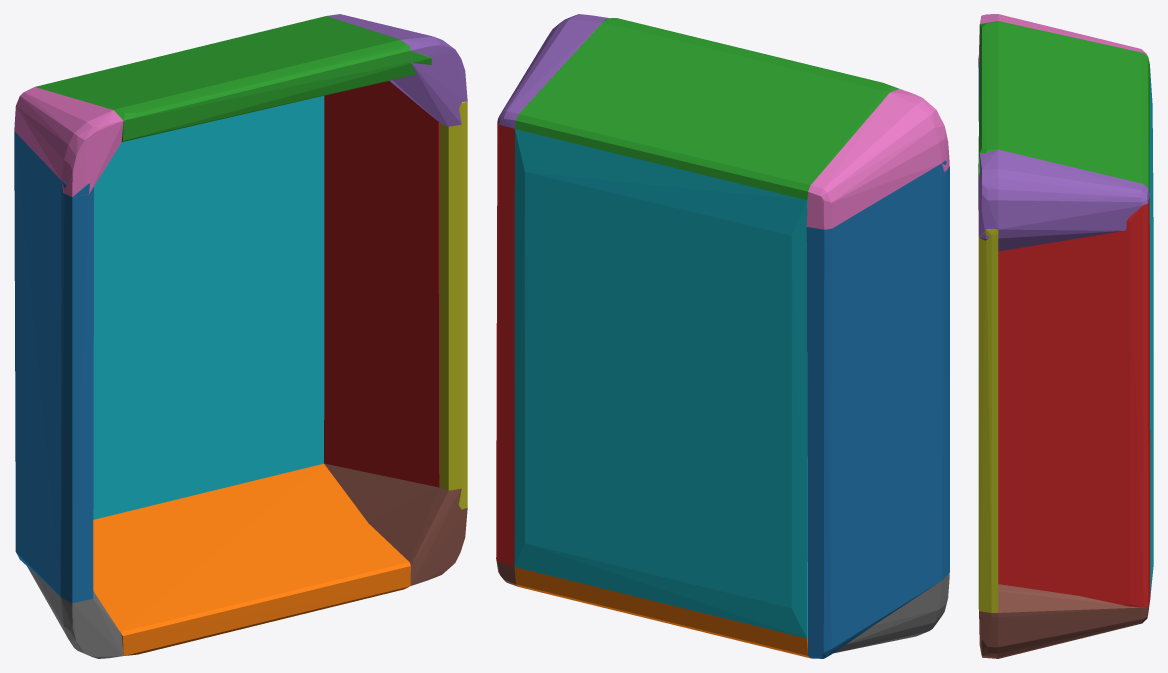
The model's file is decomp.obj.
3 renders of one model, left to right at view 1: azimuth 30°, elevation 25°; view 2: azimuth 150°, elevation 25°; view 3: azimuth 270°, elevation 25°, orthographic. The views are drawn at different scales.
Parts seen in each view (by area): view 1: ToteA.L009, ToteA.L003, ToteA.L001, ToteA.L000, ToteA.L002, ToteA.L008, ToteA.L005, ToteA.L006, ToteA.L004, ToteA.L007; view 2: ToteA.L009, ToteA.L000, ToteA.L002, ToteA.L006, ToteA.L003, ToteA.L001, ToteA.L004, ToteA.L007; view 3: ToteA.L003, ToteA.L002, ToteA.L004, ToteA.L008, ToteA.L005, ToteA.L009, ToteA.L006.
Part boxes in pixels (x1,y1,x2,y2): ToteA.L009: [93, 96, 324, 519]; ToteA.L003: [324, 81, 439, 487]; ToteA.L001: [93, 463, 410, 655]; ToteA.L000: [14, 131, 93, 603]; ToteA.L002: [35, 16, 431, 141]; ToteA.L008: [439, 101, 467, 509]; ToteA.L005: [324, 463, 467, 585]; ToteA.L006: [14, 87, 123, 196]; ToteA.L004: [327, 14, 467, 126]; ToteA.L007: [27, 566, 123, 658]; ToteA.L009: [514, 129, 807, 638]; ToteA.L000: [806, 160, 949, 658]; ToteA.L002: [515, 18, 899, 199]; ToteA.L006: [806, 89, 949, 229]; ToteA.L003: [496, 122, 514, 566]; ToteA.L001: [514, 567, 809, 657]; ToteA.L004: [497, 14, 609, 128]; ToteA.L007: [834, 573, 949, 653]; ToteA.L003: [998, 197, 1150, 607]; ToteA.L002: [978, 21, 1149, 193]; ToteA.L004: [978, 149, 1149, 251]; ToteA.L008: [978, 229, 998, 612]; ToteA.L005: [979, 584, 1150, 658]; ToteA.L009: [1149, 68, 1153, 596]; ToteA.L006: [978, 14, 1147, 67].
Size of the model in its own units: 0.4281 by 0.5543 by 0.1763.
